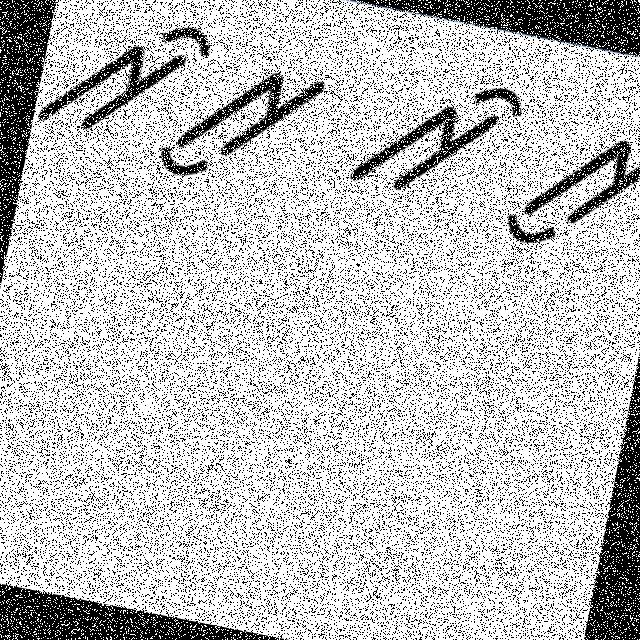waw: (162, 54, 338, 206), (501, 101, 639, 278)
way: (344, 45, 530, 218), (34, 0, 217, 156)
